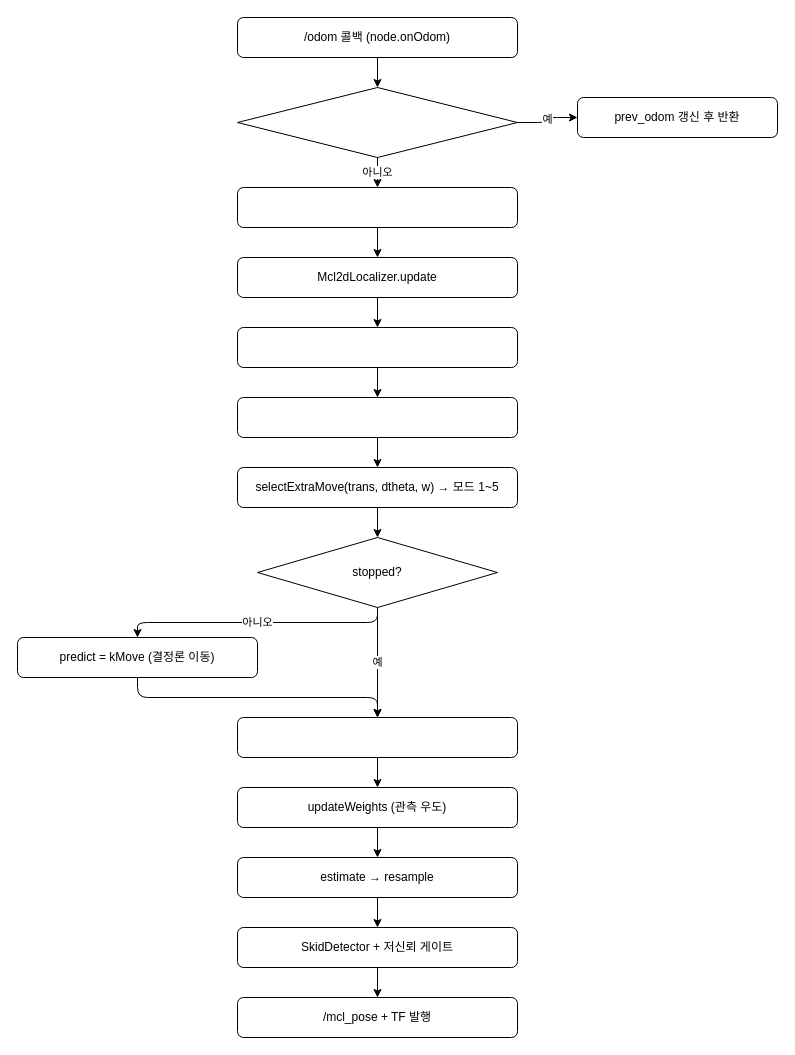
The diagram is 795 pixels wide and 1055 high, and some of its shapes have lost their labels. The box of each missing label's shape, as (x1, y1, x2, y2) in pixels:
extraMove = kExtraMove (산포): (236, 716, 518, 758)
likelihoodAt(estimate) = 신뢰도 w: (236, 396, 518, 438)
ParticleFilter2D.applyScan (새 스캔 반영): (236, 326, 518, 368)
stopped·dt 산출 (twist ↔ MotorStopThreshold): (236, 186, 518, 228)
첫 샘플 또는 스캔 미수신?: (236, 86, 518, 158)
